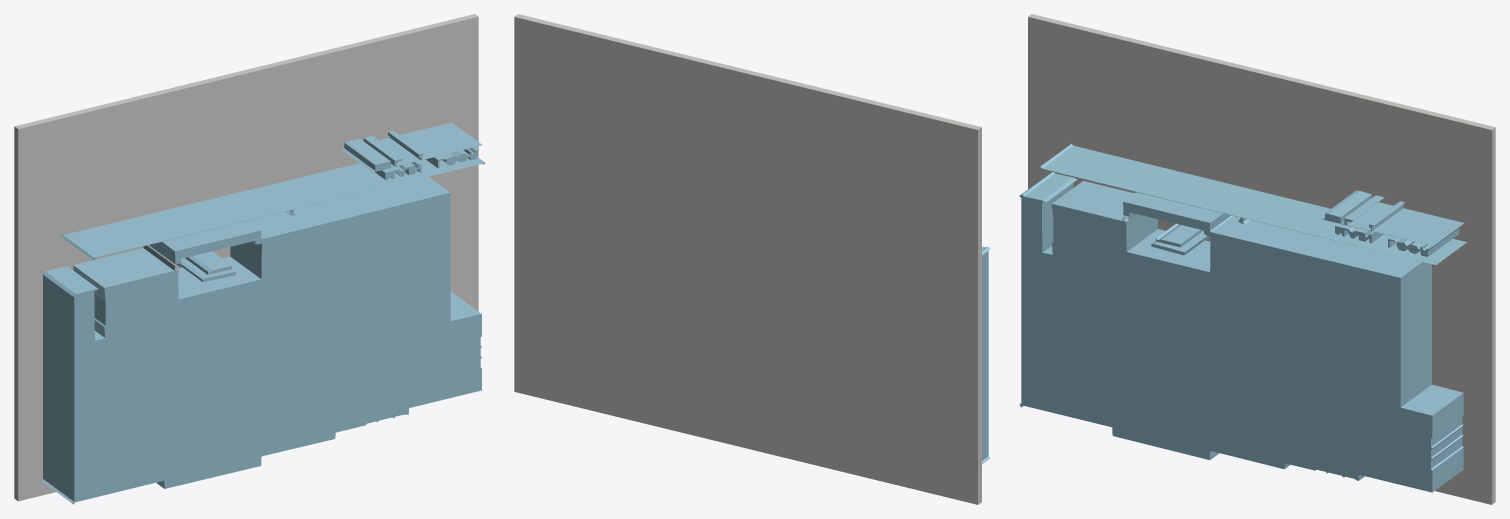
3 renders of one model, left to right at view 1: azimuth 30°, elevation 25°; view 2: azimuth 150°, elevation 25°; view 3: azimuth 330°, elevation 25°, orthographic.
Visible parts, largest first — view 1: world; view 2: world; view 3: world.
Boxes of the visible parts, box(x1,y1,x2,y2) form: world: box(14, 14, 485, 504); world: box(514, 14, 990, 504); world: box(1019, 14, 1495, 504).
Bounding box in the file's own units: 10.23 × 7.9 × 1.35.
